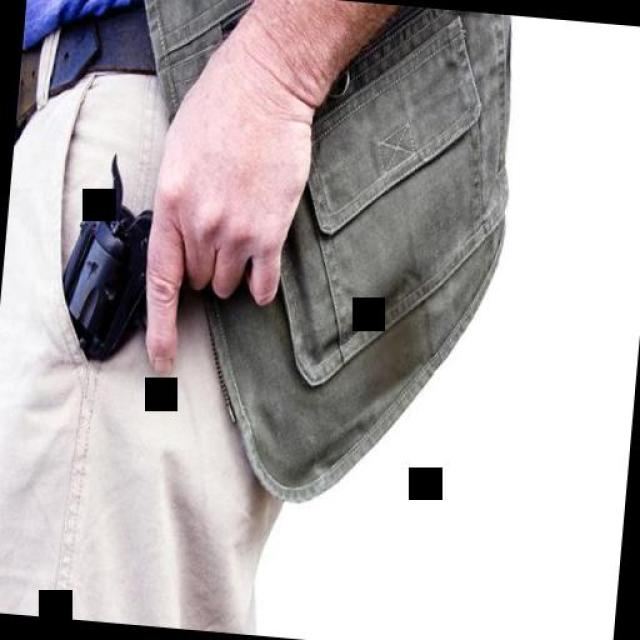gun: (16, 132, 218, 532)
